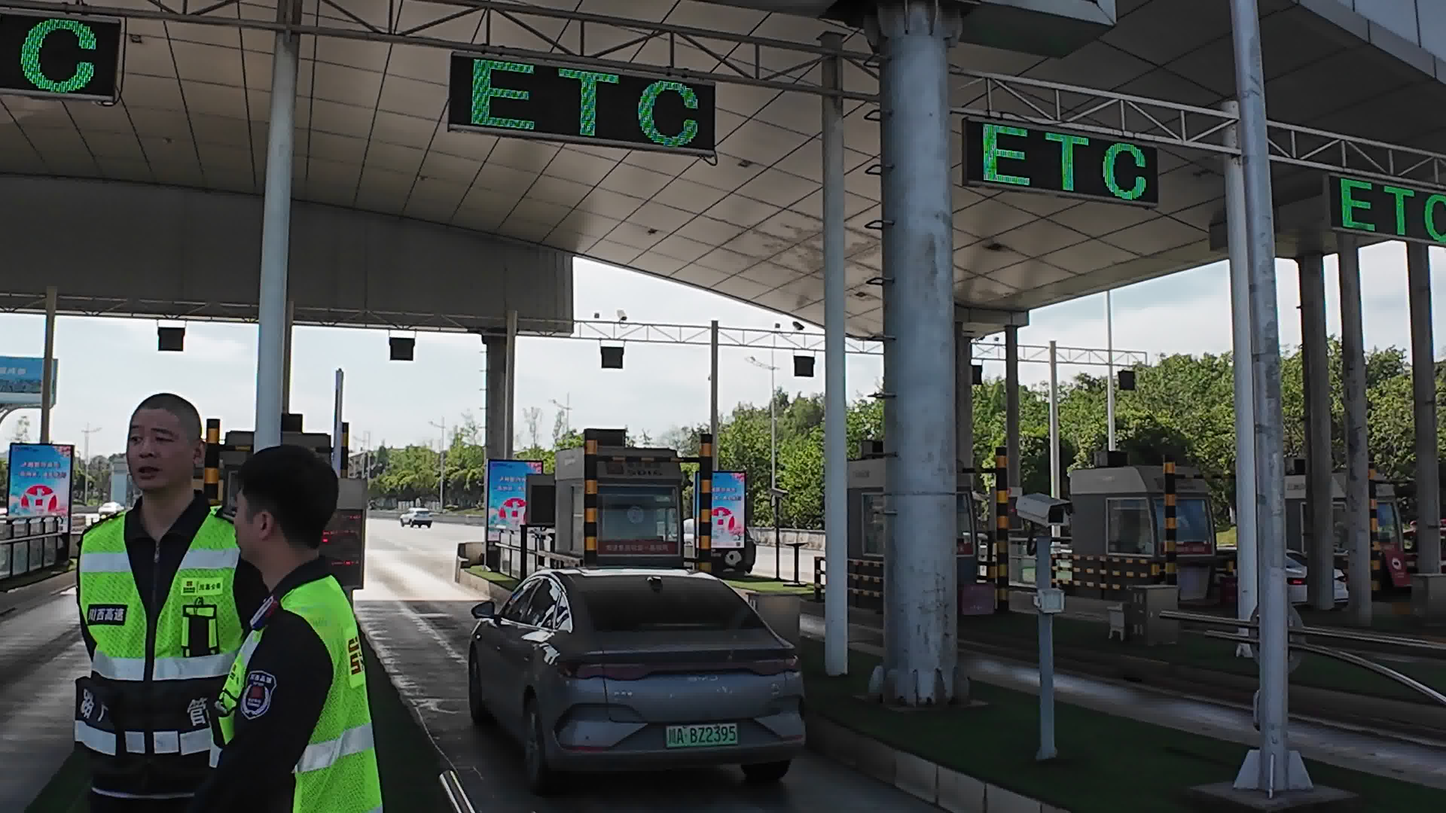led_screen: (440, 50, 713, 131), (961, 138, 1162, 199), (0, 8, 112, 97), (0, 437, 85, 552), (487, 456, 554, 576), (1331, 181, 1446, 229), (713, 465, 746, 550), (341, 478, 362, 587), (526, 485, 569, 527), (156, 325, 199, 353), (374, 337, 416, 363), (601, 338, 632, 370), (792, 358, 811, 381)
roadside_plant: (1286, 338, 1446, 467), (983, 368, 1233, 441), (717, 397, 819, 519), (367, 431, 485, 519)
toll_booth: (829, 453, 969, 622), (1062, 456, 1203, 609), (549, 437, 679, 570)
